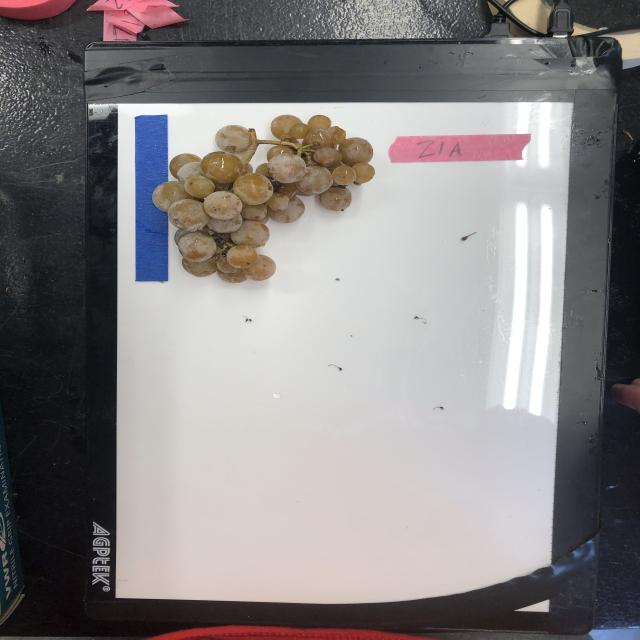grape_cluster: (150, 113, 382, 286)
index: (388, 131, 532, 163)
measure_label: (135, 113, 170, 282)
